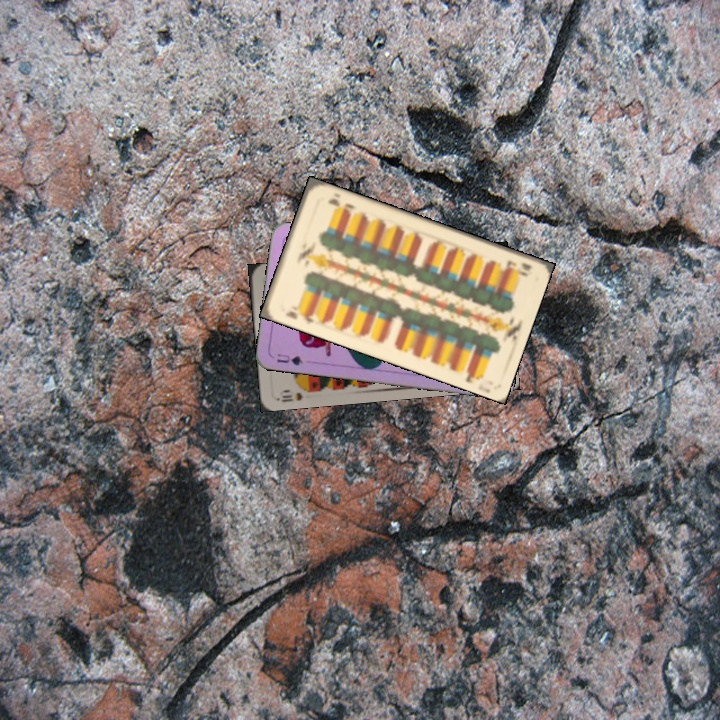E10: (281, 302, 317, 327), (501, 256, 534, 279)
GU: (273, 350, 305, 368)
S10: (274, 383, 314, 404)
